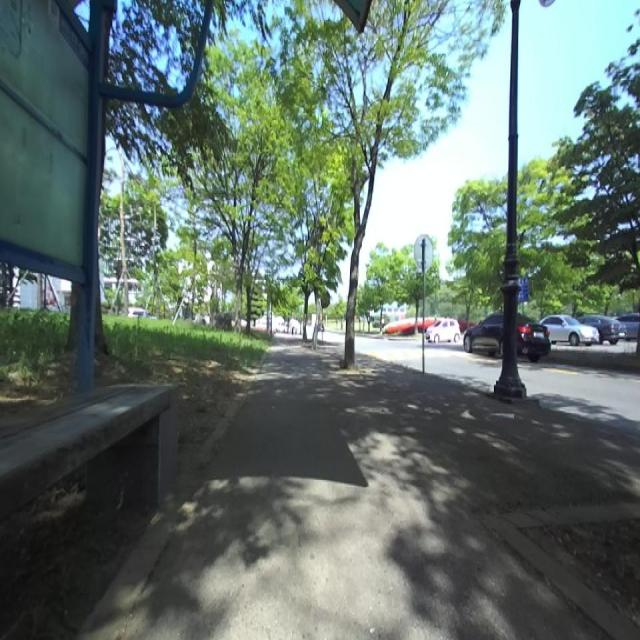sidewalk: (124, 340, 640, 639)
